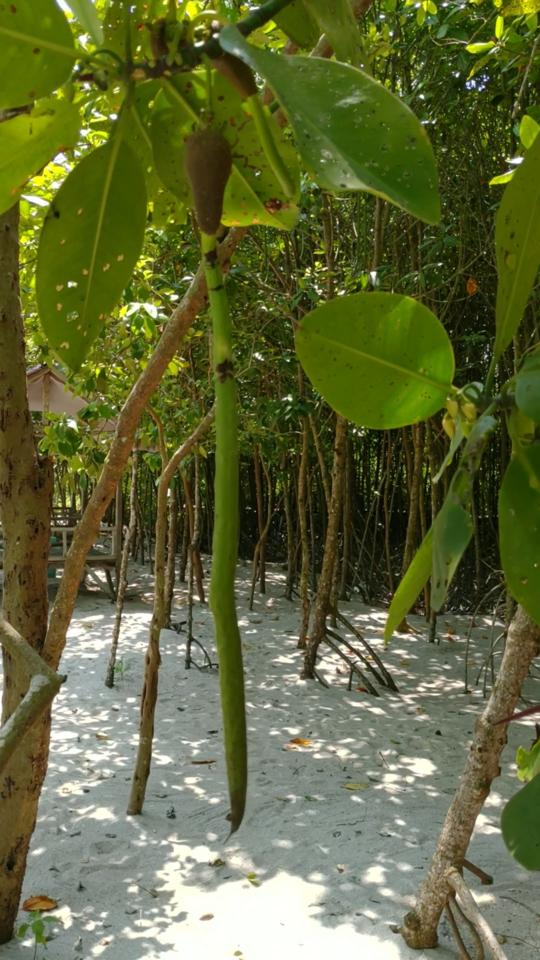mentah: (165, 107, 283, 844)
